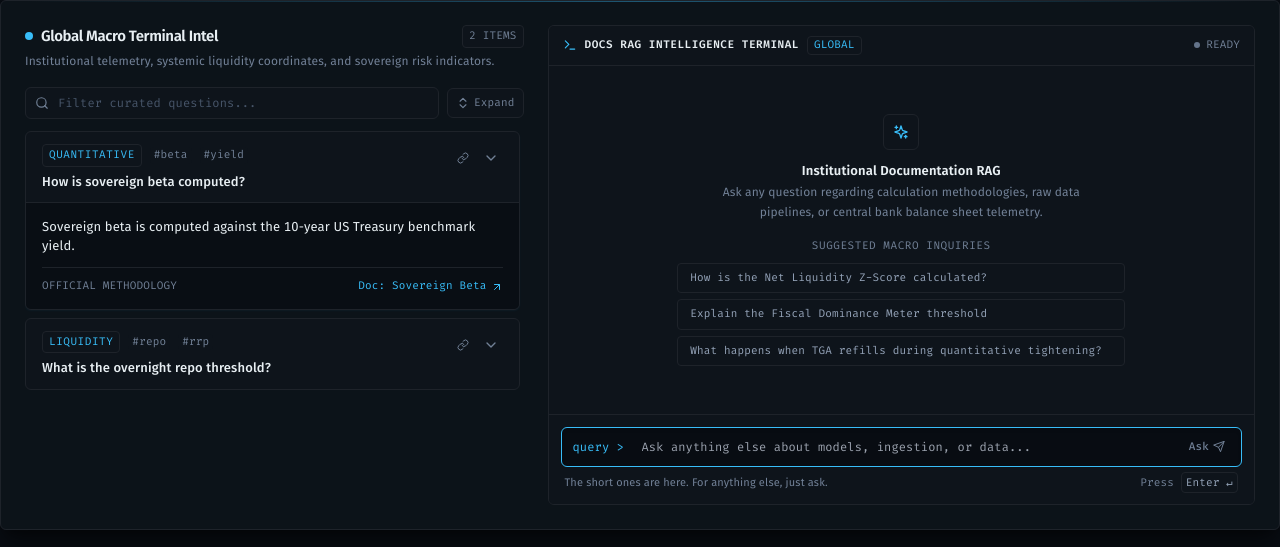
Test case: InfiniteFAQ Component › submits a free-form question in the AI terminal and streams response
In the field with placeholder "Ask anything else about models, ingestion, or data...": (901, 447) x1=560 y1=427 x2=1242 y2=467, type "What is the overnight repo threshold?"
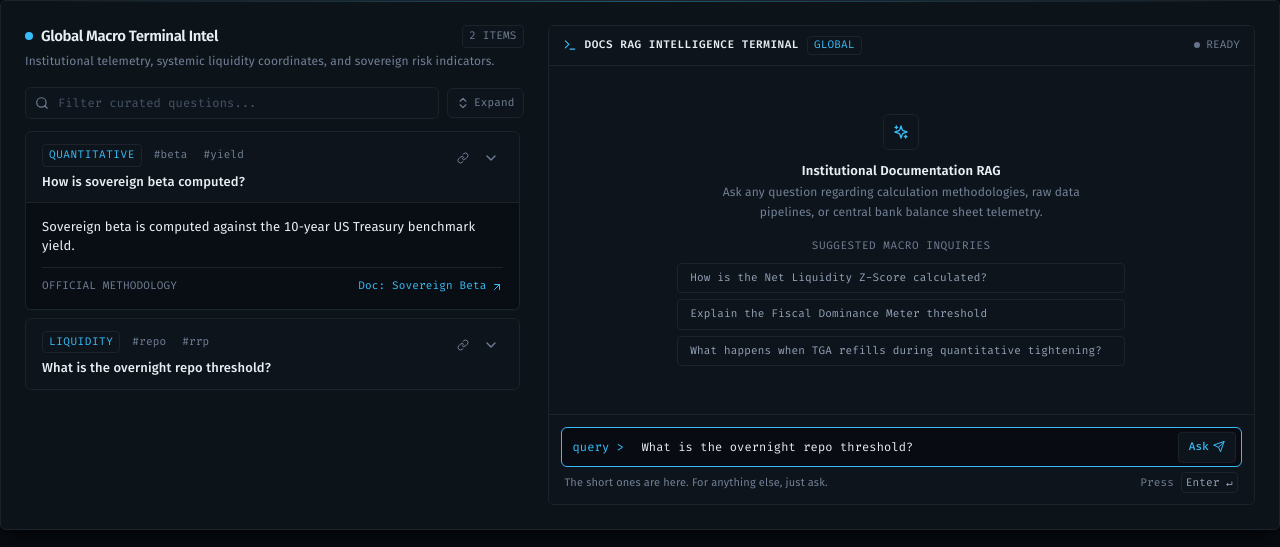
Click the button "Ask": (1207, 447) x1=1178 y1=432 x2=1236 y2=462
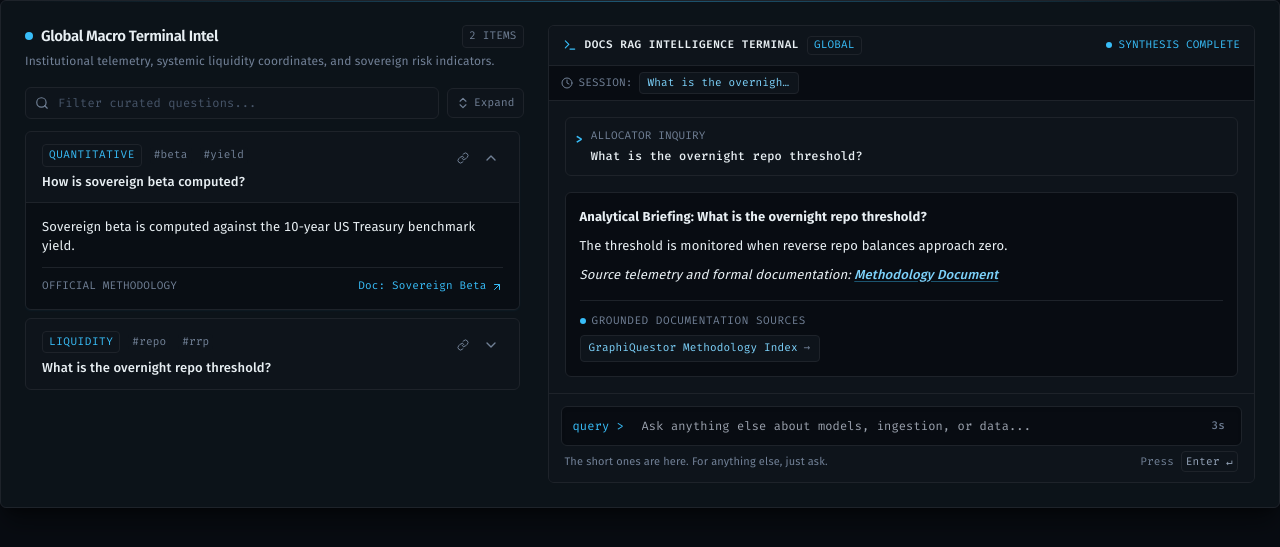
Check: the text "The threshold is monitored when reverse repo balances approach zero" is shown, box x1=580 y1=238 x2=1008 y2=252
